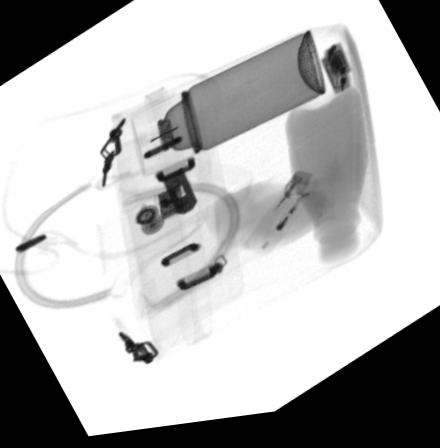Lighter: (240, 177, 318, 262)
Sprayer: (130, 38, 323, 182)
